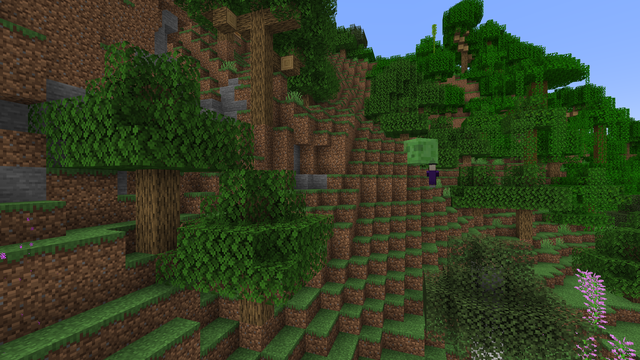slimes: (406, 136, 433, 163)
sorcieres: (428, 163, 436, 186)
